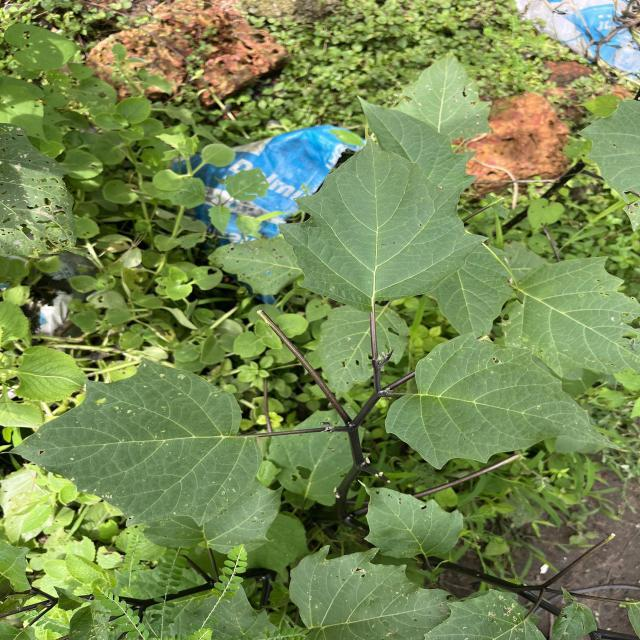Datura metal linn: (0, 355, 265, 528), (276, 131, 492, 314), (381, 330, 625, 472), (356, 475, 466, 562)
